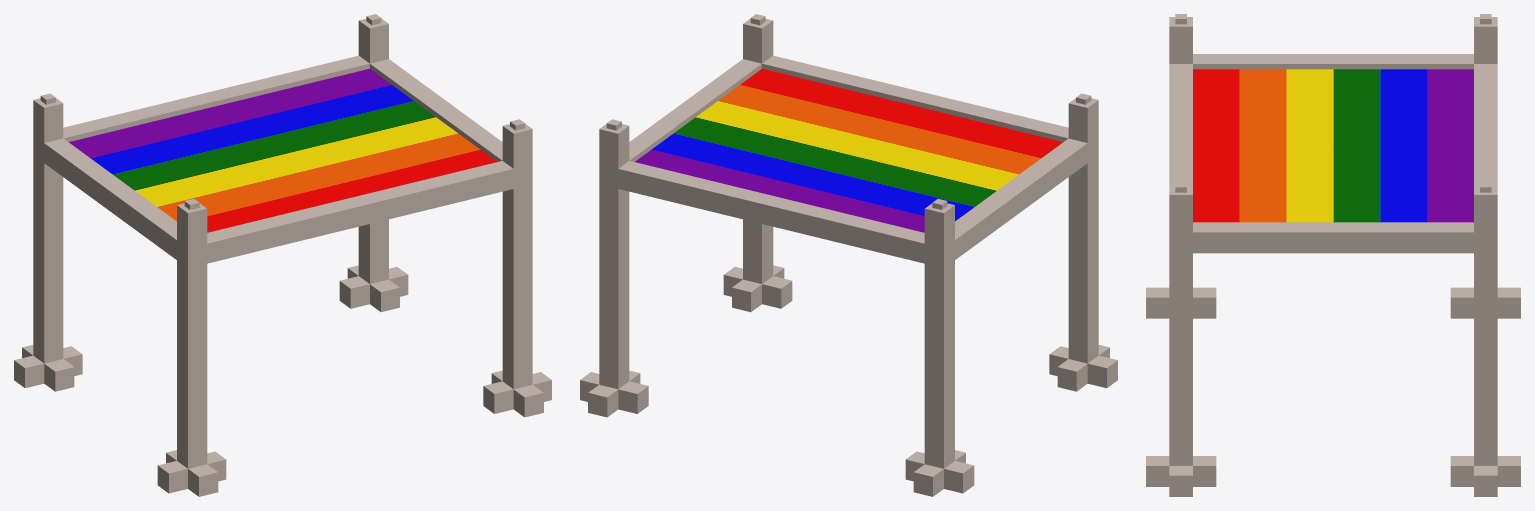
File: LGTBI.dae
3 views of the same model, side by side, from view 1: azimuth 30°, elevation 25°; view 2: azimuth 150°, elevation 25°; view 3: azimuth 270°, elevation 25° (orthographic). The views are drawn at different scales.
Parts seen in each view (by area): view 1: BanderaLGTBI; view 2: BanderaLGTBI; view 3: BanderaLGTBI.
Boxes of the visible parts, left/top/right/bottom form: BanderaLGTBI: left=14, top=14, right=551, bottom=496; BanderaLGTBI: left=580, top=14, right=1117, bottom=496; BanderaLGTBI: left=1146, top=14, right=1520, bottom=496.
Size of the model in its own units: 80 by 56 by 64.
Materials: 1 (1 with a texture image).
